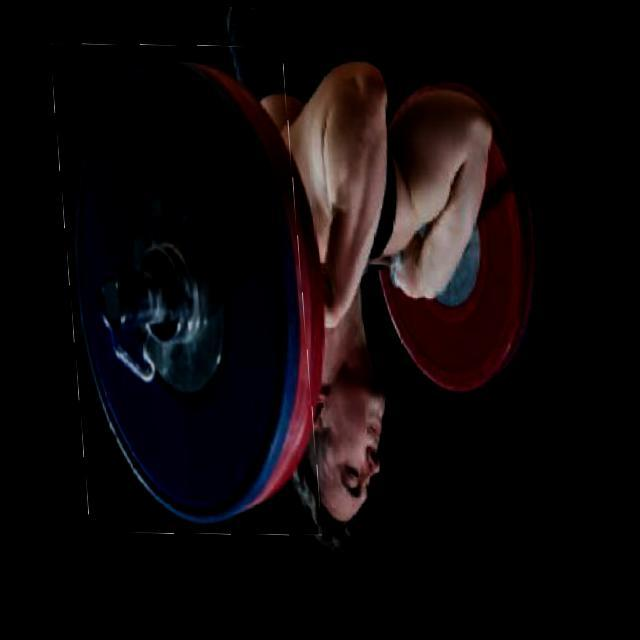barbell: (52, 42, 314, 536)
